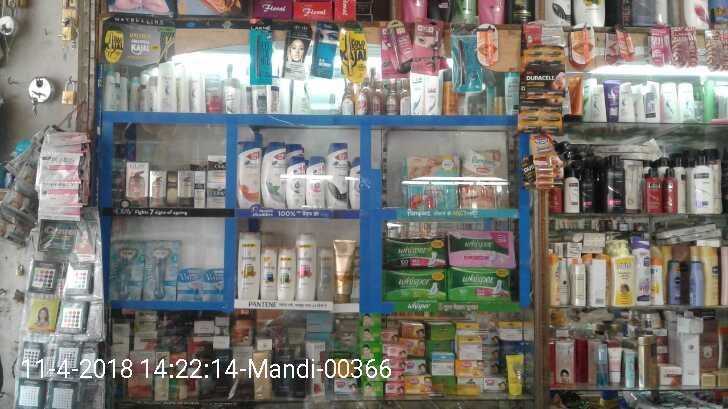venus: (109, 240, 143, 300), (143, 240, 176, 300), (179, 268, 200, 301), (203, 268, 222, 301)
